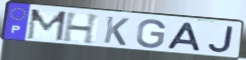A: (166, 22, 203, 53)
G: (134, 18, 168, 50)
H: (61, 12, 102, 46)
J: (206, 26, 236, 54)
K: (103, 15, 132, 47)
M: (25, 8, 69, 43)
